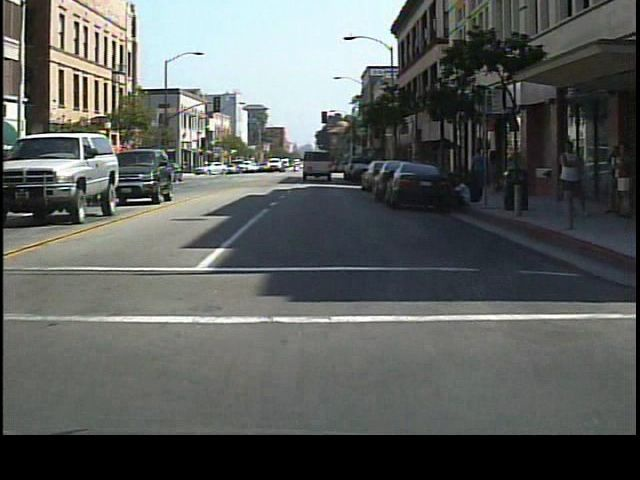person: (554, 127, 590, 225), (468, 141, 489, 201), (485, 146, 506, 200)
